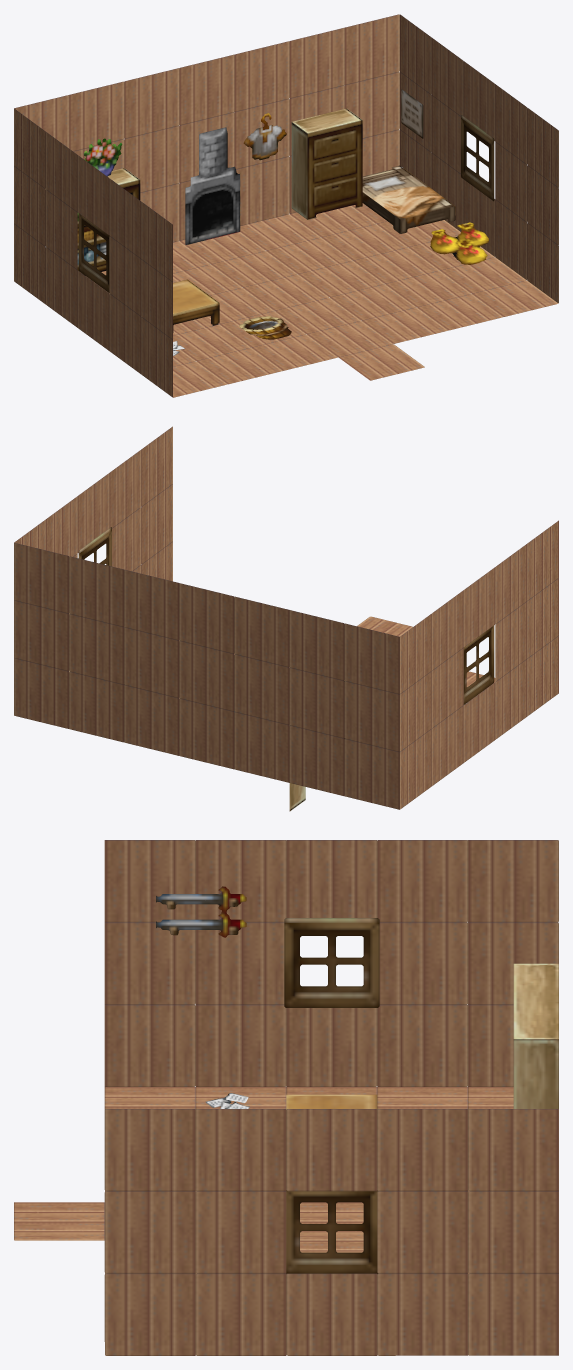
The model's file is Home0.2.obj.
3 renders of one model, top to bottom at view 1: azimuth 30°, elevation 25°; view 2: azimuth 150°, elevation 25°; view 3: azimuth 270°, elevation 25°, orthographic. The views are drawn at different scales.
Visible parts, largest first — view 1: Default; view 2: Default; view 3: Default.
Boxes of the visible parts, bbox=[...] form: Default: bbox=[14, 14, 558, 397]; Default: bbox=[14, 426, 558, 811]; Default: bbox=[14, 840, 558, 1355].
Bounding box in the file's own units: 14 × 7 × 12.
2 materials, 2 textured.
